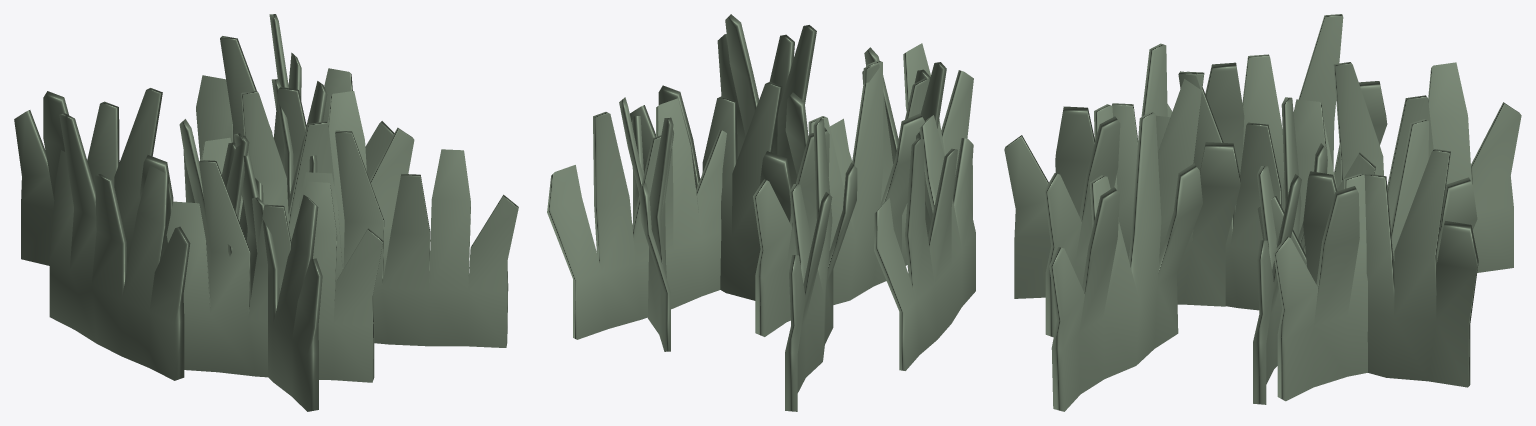
The model's file is Grass.fbx.
The picture shows the model from 3 angles, left to right: view 1: azimuth 30°, elevation 25°; view 2: azimuth 150°, elevation 25°; view 3: azimuth 270°, elevation 25°; orthographic projection. The views are drawn at different scales.
Visible parts, largest first — view 1: pCube13, pCube5, pCube12, pCube3, pCube9, pCube4, pCube7, pCube10, pCube1; view 2: pCube10, pCube1, pCube12, pCube4, pCube3, pCube13, pCube7, pCube9, pCube5; view 3: pCube13, pCube10, pCube9, pCube7, pCube3, pCube1, pCube12, pCube5, pCube4.
Boxes of the visible parts, x1,y1,x2,y2 form: pCube13: [299, 130, 518, 347]; pCube5: [166, 160, 383, 382]; pCube12: [49, 113, 190, 380]; pCube3: [14, 88, 173, 266]; pCube9: [234, 133, 322, 411]; pCube4: [201, 90, 414, 278]; pCube7: [196, 36, 394, 200]; pCube10: [269, 14, 327, 213]; pCube1: [179, 119, 249, 297]; pCube10: [547, 98, 726, 339]; pCube1: [753, 60, 924, 336]; pCube12: [874, 115, 975, 370]; pCube4: [630, 82, 791, 300]; pCube3: [785, 118, 857, 411]; pCube13: [717, 14, 816, 186]; pCube7: [619, 97, 673, 351]; pCube9: [830, 43, 973, 265]; pCube5: [862, 47, 946, 236]; pCube13: [1049, 112, 1202, 411]; pCube10: [1257, 149, 1478, 387]; pCube9: [1004, 71, 1240, 306]; pCube7: [1273, 119, 1477, 401]; pCube3: [1323, 62, 1521, 272]; pCube1: [1156, 71, 1375, 310]; pCube12: [1167, 14, 1387, 211]; pCube5: [1044, 43, 1167, 337]; pCube4: [1253, 97, 1327, 404].
Bounding box in the file's own units: 17.86 × 11.11 × 22.62.
